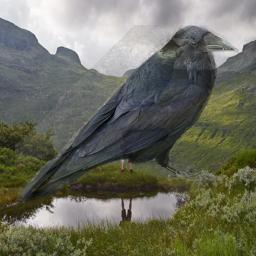Crow: (15, 25, 239, 206)
